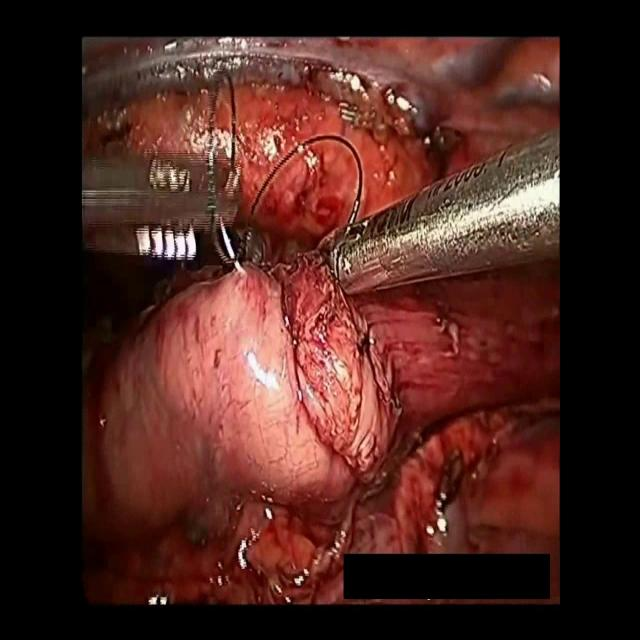surgical-area: (80, 36, 560, 606)
surgical-tool: (325, 122, 560, 295), (80, 150, 242, 258)
